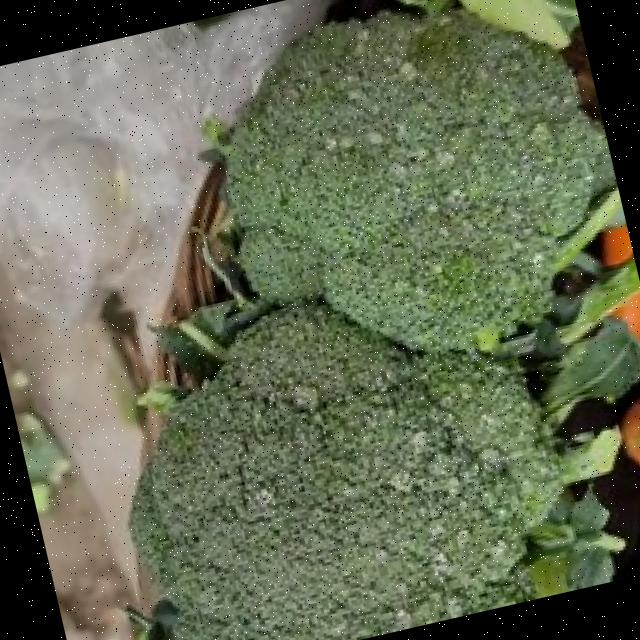Broccoli: (136, 305, 561, 640), (227, 12, 614, 348), (226, 12, 614, 347)
